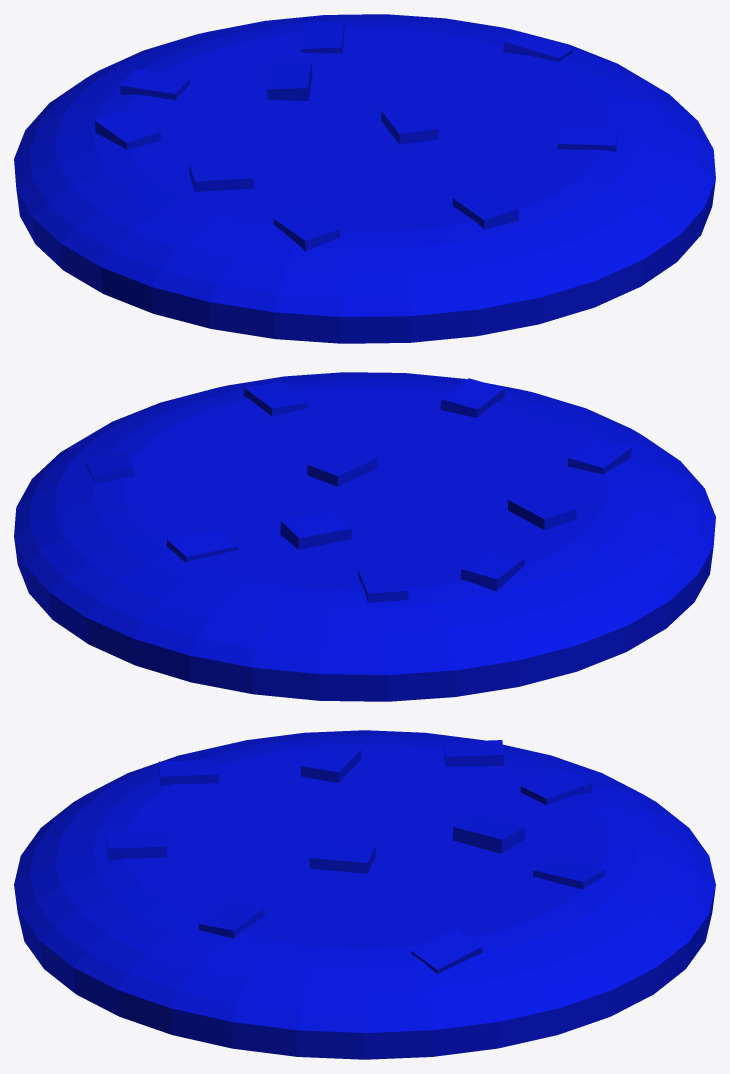
File: cookie.fbx
3 views of the same model, one above another, from view 1: azimuth 30°, elevation 25°; view 2: azimuth 150°, elevation 25°; view 3: azimuth 270°, elevation 25° (orthographic).
Visible parts, largest first — view 1: Cookie; view 2: Cookie; view 3: Cookie.
Boxes of the visible parts, x1=… form: Cookie: x1=14, y1=14, x2=715, y2=343; Cookie: x1=14, y1=372, x2=715, y2=701; Cookie: x1=14, y1=730, x2=715, y2=1059.
Size of the model in its own units: 20 by 2.54 by 20.
